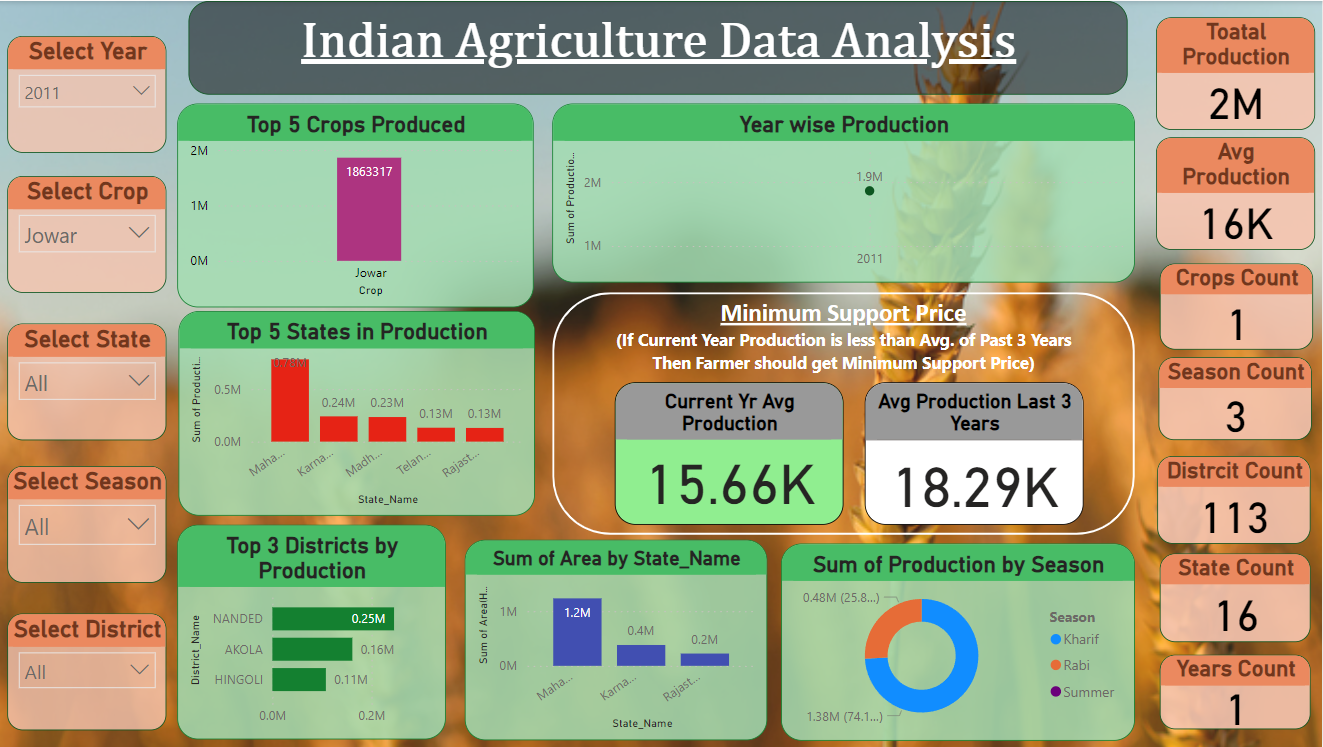

The dashboard page shown, as its layout file describes it:
{"tool":"powerbi","page":{"name":"Home Page","canvas":[1280,720],"ordinal":2},"visuals":[{"type":"textbox","box":[185.8,0,906,90.5],"z":0},{"type":"slicer","title":"Select Year","fields":{"Values":["apy_1.Crop_Year"]},"box":[11,34.3,153.7,112.5],"z":1000},{"type":"slicer","title":"Select Crop","fields":{"Values":["apy_1.Crop"]},"box":[11,168.8,153.7,112.5],"z":2000},{"type":"slicer","title":"Select State","fields":{"Values":["apy_1.State_Name"]},"box":[11,311.5,153.7,112.5],"z":3000},{"type":"slicer","title":"Select Season","fields":{"Values":["apy_1.Season"]},"box":[11,448.7,153.7,112.5],"z":4000},{"type":"slicer","title":"Select District","fields":{"Values":["apy_1.District_Name"]},"box":[11,591.4,153.7,112.5],"z":5000},{"type":"columnChart","title":"Top 5 Crops Produced","fields":{"Category":["apy_1.Crop"],"Y":["Sum(apy_1.Production(Tons))"]},"box":[174.9,98.9,343.8,196.6],"z":6000},{"type":"columnChart","title":"Top 5 States in Production","fields":{"Category":["apy_1.State_Name"],"Y":["Sum(apy_1.Production(Tons))"]},"box":[176.1,299.2,343.8,197.9],"z":7000},{"type":"donutChart","title":"Sum of Production by Season","fields":{"Y":["Sum(apy_1.Production(Tons))"],"Category":["apy_1.Season"]},"box":[757.6,523.6,341.4,190.6],"z":8000},{"type":"barChart","title":"Top 3 Districts by Production","fields":{"Category":["apy_1.District_Name"],"Y":["Sum(apy_1.Production(Tons))"]},"box":[174.9,505.5,259.4,207.5],"z":9000},{"type":"lineChart","title":"Year wise Production","fields":{"Category":["apy_1.Crop_Year"],"Y":["Sum(apy_1.Production(Tons))"]},"box":[536.9,98.9,562.2,172.5],"z":10000},{"type":"shape","box":[536.9,281.1,562.2,234],"z":11000},{"type":"textbox","box":[536.9,281.1,562.2,86.9],"z":12000},{"type":"card","title":"Current Yr Avg Production","fields":{"Values":["apy_1.Avg Production"]},"box":[597.2,368,220.8,137.5],"z":13000},{"type":"card","title":"Avg Production Last 3 Years","fields":{"Values":["apy_1.AverageProductionLastThreeYears"]},"box":[838.5,368,211.1,137.5],"z":14000},{"type":"card","title":"Toatal Production","fields":{"Values":["apy_1.Total Production"]},"box":[1119.6,15.7,153.2,108.6],"z":15000},{"type":"card","title":"Avg Production","fields":{"Values":["apy_1.Avg Production"]},"box":[1119.6,131.5,153.2,108.6],"z":16000},{"type":"card","title":"State Count","fields":{"Values":["apy_1.State Count"]},"box":[1123.2,533.2,146,85.7],"z":17000},{"type":"card","title":"Distrcit Count","fields":{"Values":["apy_1.Distinct District"]},"box":[1120.8,439.1,148.4,84.5],"z":18000},{"type":"card","title":"Season Count","fields":{"Values":["apy_1.Season Count"]},"box":[1122,343.8,148.4,79.6],"z":19000},{"type":"card","title":"Crops Count","fields":{"Values":["apy_1.No. of Crops"]},"box":[1123.2,253.4,148.4,83.2],"z":20000},{"type":"card","title":"Years Count","fields":{"Values":["apy_1.Years Count"]},"box":[1123.2,631,146,72.4],"z":21000},{"type":"columnChart","title":"Sum of Area by State_Name","fields":{"Category":["apy_1.State_Name"],"Y":["Sum(apy_1.Area(Hectare))"]},"box":[452.8,520.1,292.3,193.5],"z":22000}]}

Visuals, with their boxes in screenshot pixels (x1, y1, x2, y2), scaled from the page's 1280x720 canvas onto the 1323x747 screenshot:
textbox: bbox(192, 0, 1128, 94)
"Select Year" slicer: bbox(11, 36, 170, 152)
"Select Crop" slicer: bbox(11, 175, 170, 292)
"Select State" slicer: bbox(11, 323, 170, 440)
"Select Season" slicer: bbox(11, 466, 170, 582)
"Select District" slicer: bbox(11, 614, 170, 730)
"Top 5 Crops Produced" columnChart: bbox(181, 103, 536, 307)
"Top 5 States in Production" columnChart: bbox(182, 310, 537, 516)
"Sum of Production by Season" donutChart: bbox(783, 543, 1136, 741)
"Top 3 Districts by Production" barChart: bbox(181, 524, 449, 740)
"Year wise Production" lineChart: bbox(555, 103, 1136, 282)
shape: bbox(555, 292, 1136, 534)
textbox: bbox(555, 292, 1136, 382)
"Current Yr Avg Production" card: bbox(617, 382, 845, 524)
"Avg Production Last 3 Years" card: bbox(867, 382, 1085, 524)
"Toatal Production" card: bbox(1157, 16, 1316, 129)
"Avg Production" card: bbox(1157, 136, 1316, 249)
"State Count" card: bbox(1161, 553, 1312, 642)
"Distrcit Count" card: bbox(1158, 456, 1312, 543)
"Season Count" card: bbox(1160, 357, 1313, 439)
"Crops Count" card: bbox(1161, 263, 1314, 349)
"Years Count" card: bbox(1161, 655, 1312, 730)
"Sum of Area by State_Name" columnChart: bbox(468, 540, 770, 740)
